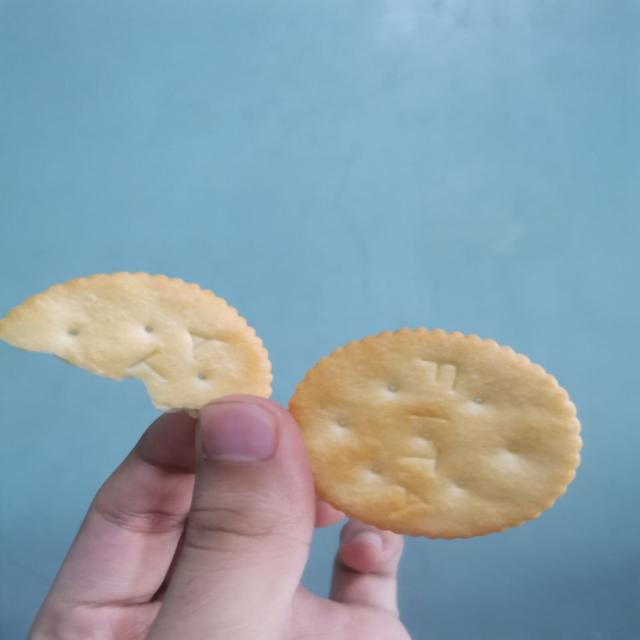broken biscuit: (0, 271, 275, 424)
intact biscuit: (287, 325, 584, 541)
